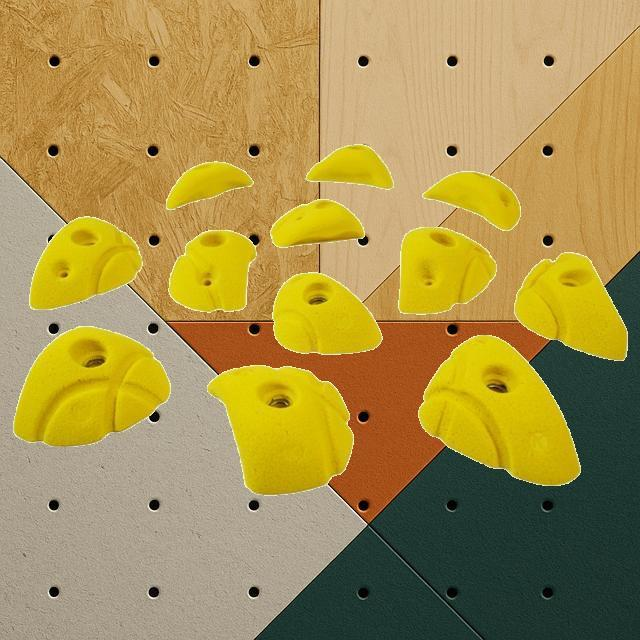Jug: (419, 334, 581, 486), (207, 364, 353, 496), (12, 326, 170, 446), (514, 252, 628, 361), (29, 216, 141, 310), (273, 272, 382, 354), (398, 226, 496, 314), (168, 228, 256, 312), (422, 170, 520, 230), (270, 199, 364, 247), (165, 161, 253, 209), (306, 144, 392, 188)
